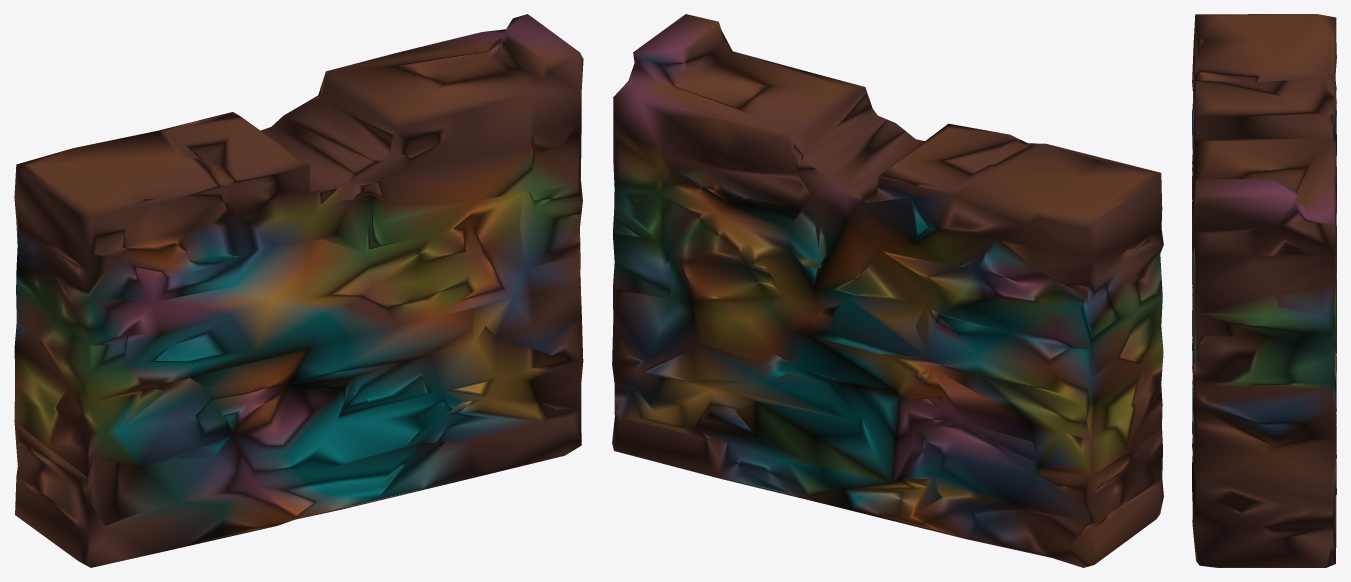
File: gen3d-graffiti-wall-lod1.glb
3 views of the same model, side by side, from view 1: azimuth 30°, elevation 25°; view 2: azimuth 150°, elevation 25°; view 3: azimuth 270°, elevation 25° (orthographic). The views are drawn at different scales.
Parts seen in each view (by area): view 1: part_0; view 2: part_0; view 3: part_0.
Boxes of the visible parts, x1,y1,x2,y2 form: part_0: [14, 14, 583, 567]; part_0: [612, 14, 1163, 567]; part_0: [1192, 14, 1336, 567].
Size of the model in its own units: 1.3 by 0.999 by 0.3511.
